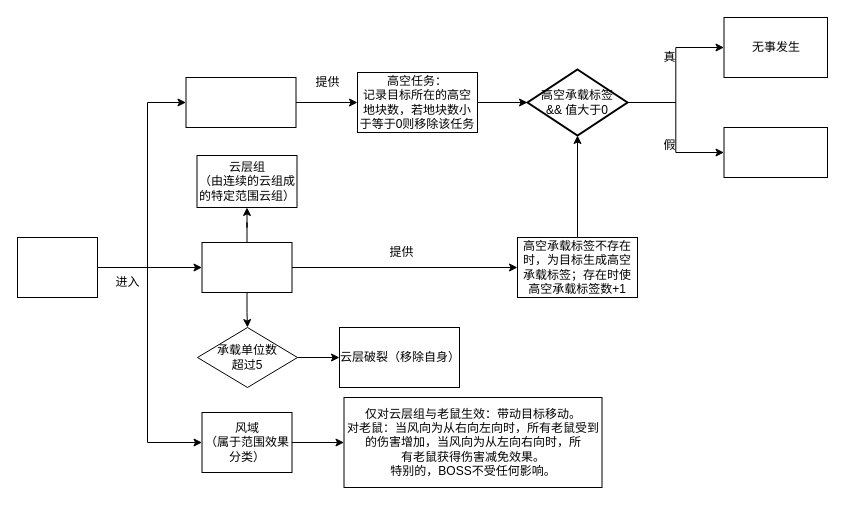
The diagram is 845 pixels wide and 505 high, and some of its shapes have lost their labels. Here are the shapes that lost their labels. From the top down, the centre of each, then its label:
At pixel 240 102: "高空地块 （属于地形分类）".
At pixel 775 152: "强制触发目标单位 的摔死逻辑 BOSS不受影响".
At pixel 57 267: "单位".
At pixel 246 267: "云层 （属于不依附格子的道具分类）".
